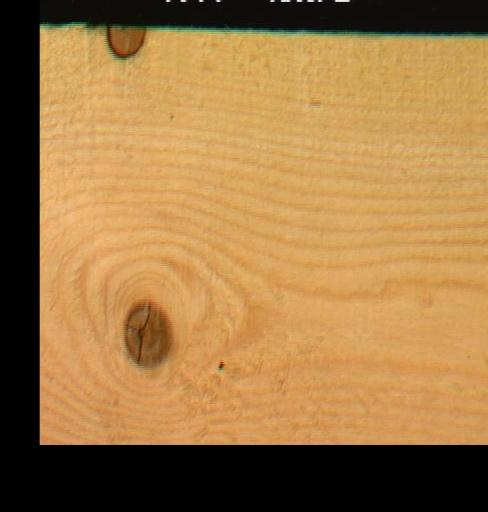sound_knot: (121, 298, 171, 366)
